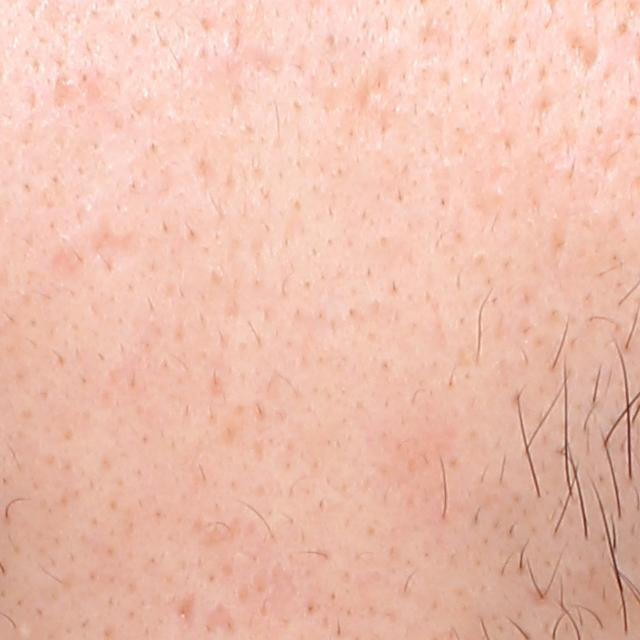atrophic_scar: (87, 219, 150, 259), (563, 32, 603, 72), (204, 602, 242, 639), (174, 590, 198, 632)
comedo: (360, 90, 388, 112)
